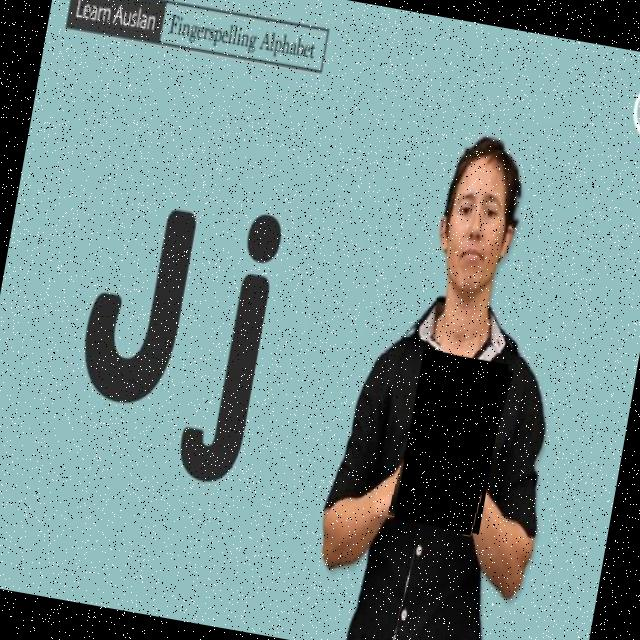J: (391, 349, 513, 538)
